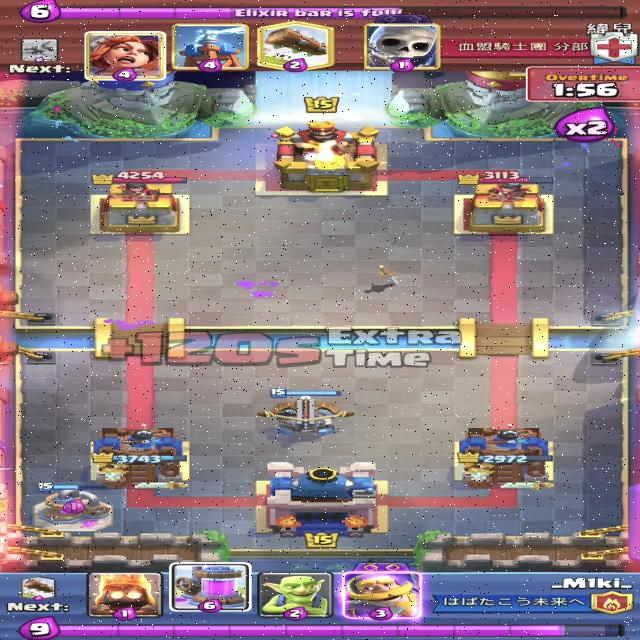Enemy-Fireball: (303, 140, 352, 171)
Player-ElixirPump: (31, 482, 115, 533)
Player-XBow: (258, 387, 356, 435)
